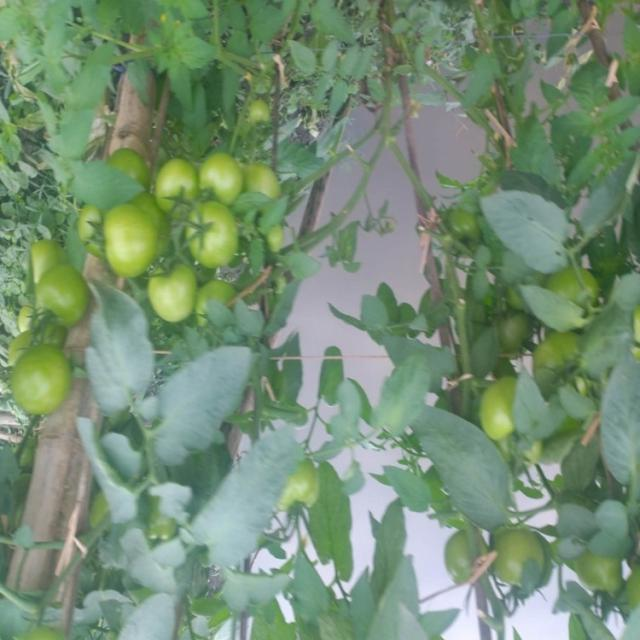tomato: (487, 504, 584, 630), (440, 522, 510, 615), (91, 203, 171, 283), (464, 367, 546, 434), (180, 198, 247, 279), (23, 263, 102, 331), (16, 347, 78, 428), (423, 190, 483, 273), (521, 334, 597, 399), (146, 150, 204, 233), (192, 143, 252, 221), (539, 261, 606, 329), (575, 534, 626, 611), (277, 459, 336, 518), (145, 271, 201, 324), (8, 232, 58, 279), (244, 159, 285, 203), (245, 99, 279, 132)
